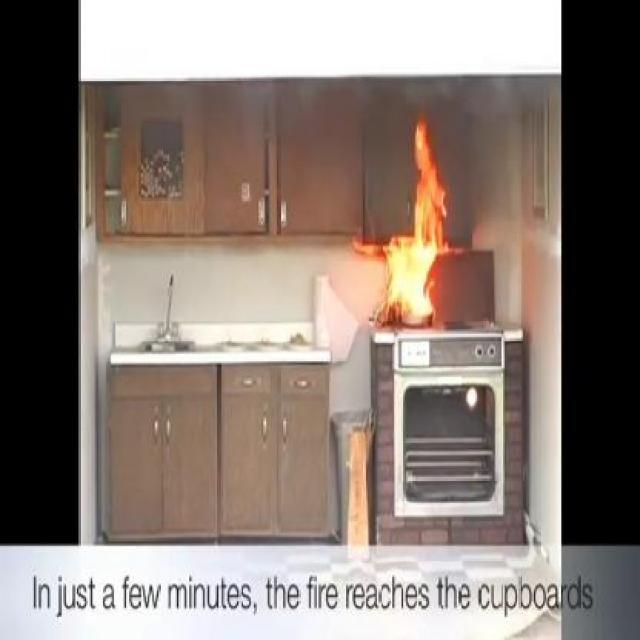fire: (362, 238, 456, 327), (410, 114, 464, 254)
